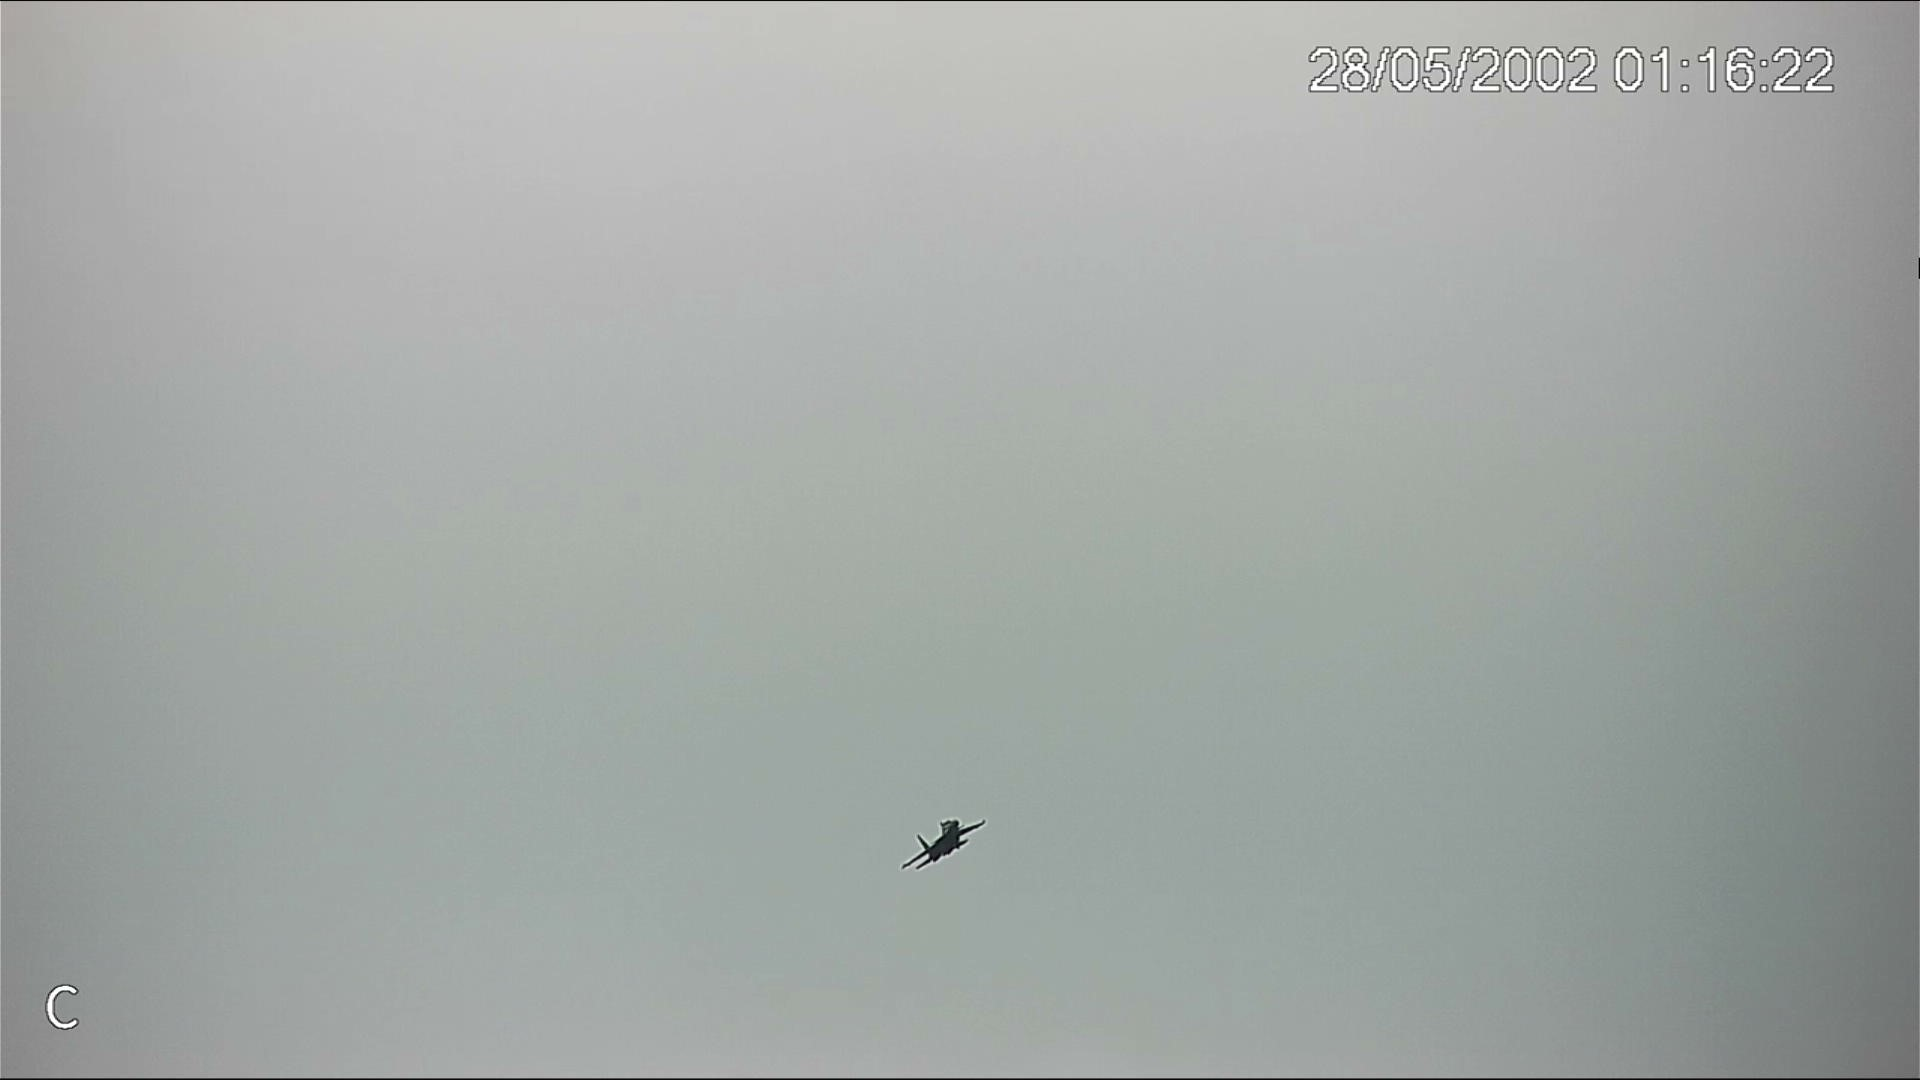SU_30: (899, 818, 986, 872)
